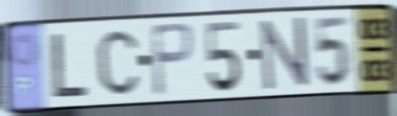5: (310, 13, 355, 89), (203, 18, 242, 95)
C: (94, 27, 141, 98)
L: (50, 31, 90, 100)
N: (258, 14, 311, 94)
P: (149, 20, 197, 99)
